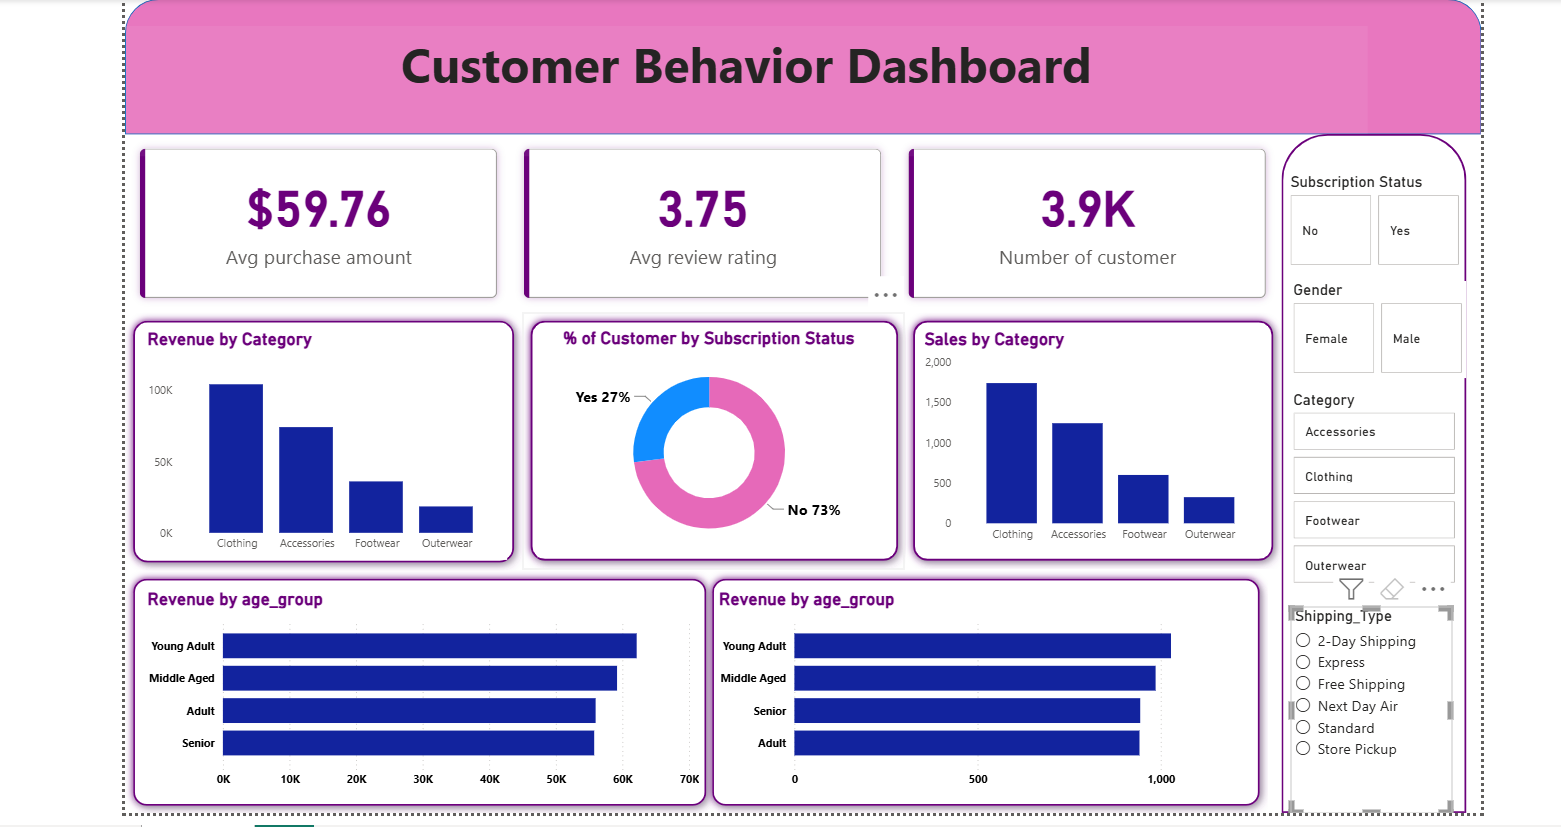

Layout of this report page (visuals, bound fields, positions):
{"tool":"powerbi","page":{"name":"Page 1","canvas":[1500,900],"ordinal":0},"visuals":[{"type":"cardVisual","fields":{"Data":["public customer.avg purchase amount","public customer.avg review rating","public customer.number customer"]},"box":[0,149,1279.2,197.5],"z":0},{"type":"shape","box":[0,0,1499.8,149.8],"z":1000},{"type":"textbox","box":[0,30.4,1374.3,143.7],"z":2000},{"type":"shape","box":[438.8,346.5,424.2,283.4],"z":3000},{"type":"donutChart","title":"% of Customer by Subscription Status","fields":{"Category":["public customer.Subscription_Status"],"Y":["CountNonNull(public customer.Customer_ID)"]},"box":[456.6,362.7,378.9,254.2],"z":4000},{"type":"shape","box":[0,346.1,439.2,285.4],"z":5000},{"type":"shape","box":[863,346.5,416.1,283.4],"z":6000},{"type":"columnChart","title":"Revenue by Category","fields":{"Category":["public customer.Category"],"Y":["Sum(public customer.Purchase_amount)"]},"box":[20.2,364.3,402.8,255],"z":7000},{"type":"columnChart","title":"Sales by Category","fields":{"Category":["public customer.Category"],"Y":["CountNonNull(public customer.Customer_ID)"]},"box":[879.2,364.3,383.8,244.5],"z":8000},{"type":"shape","box":[1279.2,149.8,204.4,750.9],"z":9000},{"type":"advancedSlicerVisual","fields":{"Values":["public customer.Subscription_Status"]},"box":[1283.2,192.3,196.3,107.3],"z":10000},{"type":"advancedSlicerVisual","fields":{"Values":["public customer.Gender"]},"box":[1287.3,311.7,196.3,107.3],"z":11000},{"type":"advancedSlicerVisual","fields":{"Values":["public customer.Category"]},"box":[1287.3,433.1,188.2,218.6],"z":12000},{"type":"listSlicer","fields":{"Values":["public customer.Shipping_Type"]},"box":[1289.3,672,178.1,228.7],"z":13000},{"type":"shape","box":[0,631.5,651.7,269.2],"z":14000},{"type":"clusteredBarChart","title":"Revenue by age_group","fields":{"Category":["public customer.age_group"],"Y":["Sum(public customer.Purchase_amount)"]},"box":[20.2,651.7,619.4,228.7],"z":15000},{"type":"shape","box":[639.6,631.5,623.4,269.2],"z":16000},{"type":"clusteredBarChart","title":"Revenue by age_group","fields":{"Category":["public customer.age_group"],"Y":["CountNonNull(public customer.Customer_ID)"]},"box":[651.7,651.7,595.1,228.7],"z":17000}]}

Visuals, with their boxes in screenshot pixels (x1, y1, x2, y2):
cardVisual - public customer.avg purchase amount x public customer.avg review rating: x1=118 y1=135 x2=1275 y2=313
shape: x1=118 y1=0 x2=1474 y2=135
textbox: x1=118 y1=27 x2=1361 y2=157
shape: x1=515 y1=313 x2=898 y2=570
"% of Customer by Subscription Status" donutChart: x1=531 y1=328 x2=873 y2=558
shape: x1=118 y1=313 x2=515 y2=571
shape: x1=898 y1=313 x2=1274 y2=570
"Revenue by Category" columnChart: x1=136 y1=329 x2=500 y2=560
"Sales by Category" columnChart: x1=913 y1=329 x2=1260 y2=550
shape: x1=1275 y1=135 x2=1459 y2=814
advancedSlicerVisual - public customer.Subscription_Status: x1=1278 y1=174 x2=1456 y2=271
advancedSlicerVisual - public customer.Gender: x1=1282 y1=282 x2=1459 y2=379
advancedSlicerVisual - public customer.Category: x1=1282 y1=392 x2=1452 y2=589
listSlicer - public customer.Shipping_Type: x1=1284 y1=608 x2=1445 y2=814
shape: x1=118 y1=571 x2=707 y2=814
"Revenue by age_group" clusteredBarChart: x1=136 y1=589 x2=696 y2=796
shape: x1=696 y1=571 x2=1260 y2=814
"Revenue by age_group" clusteredBarChart: x1=707 y1=589 x2=1245 y2=796
